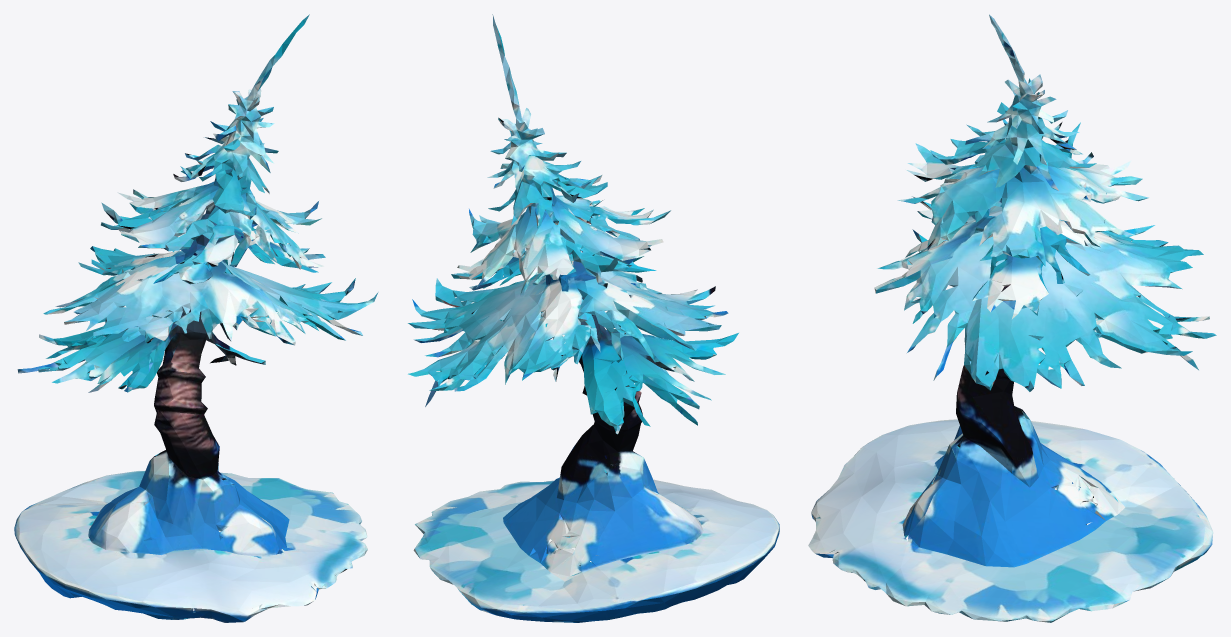
File: snow_pine.glb
3 views of the same model, side by side, from view 1: azimuth 30°, elevation 25°; view 2: azimuth 150°, elevation 25°; view 3: azimuth 270°, elevation 25° (orthographic). The views are drawn at different scales.
Visible parts, largest first — view 1: tmprgglwvgh.ply; view 2: tmprgglwvgh.ply; view 3: tmprgglwvgh.ply.
Boxes of the visible parts, x1=… form: tmprgglwvgh.ply: x1=14, y1=14, x2=378, y2=622; tmprgglwvgh.ply: x1=408, y1=14, x2=779, y2=622; tmprgglwvgh.ply: x1=808, y1=14, x2=1216, y2=622.
Size of the model in its own units: 1.34 by 1.98 by 1.25.
Materials: 1 (1 with a texture image).
